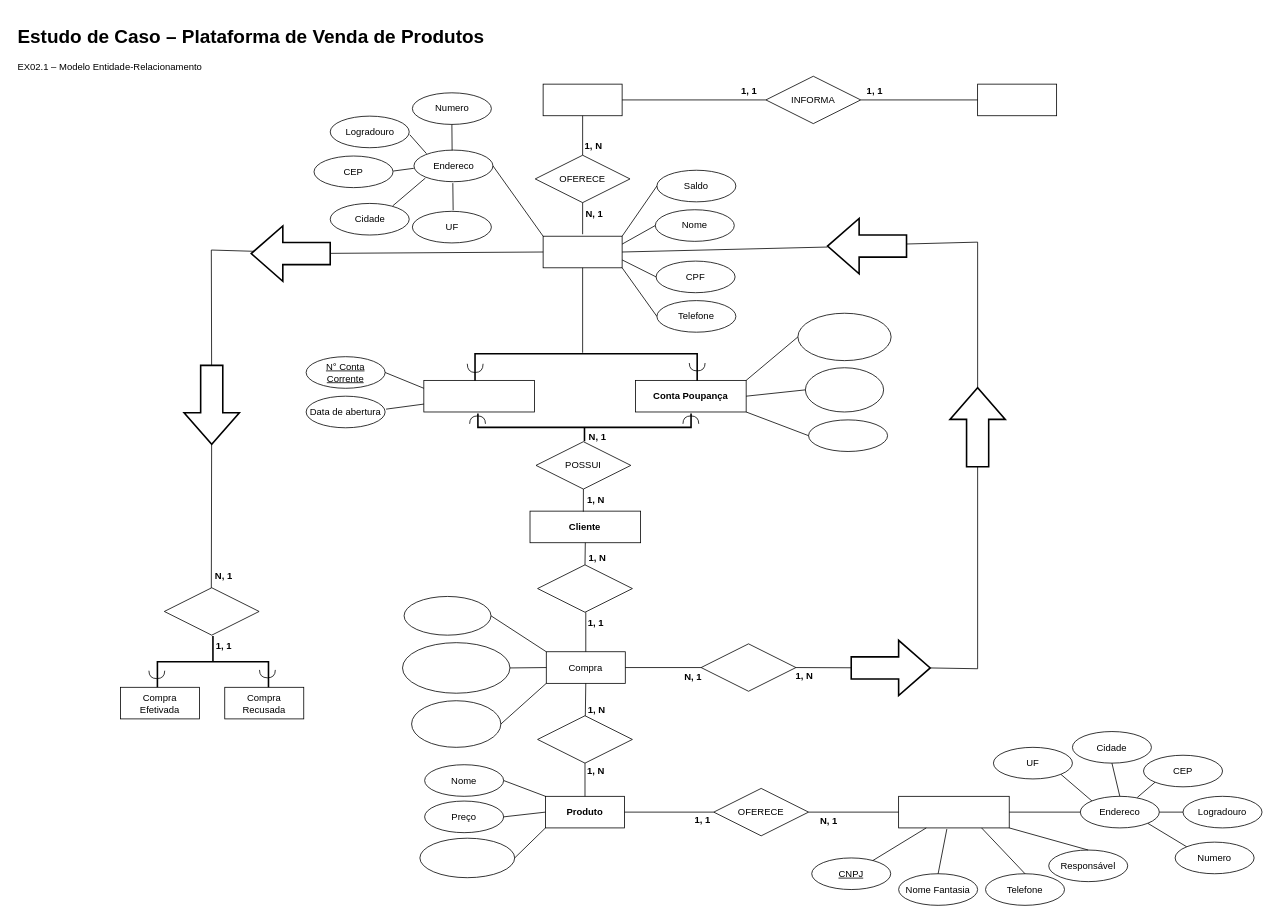
This 1276x919 diagram has some shape labels left out. The shapes that lost their labels are listed below. From the top down, each one's box as (x1, y1, x2, y2) in pixels, then its label:
(542, 83, 622, 116): Instituição Financeira
(977, 83, 1057, 116): Rede Social
(542, 235, 622, 268): Conta
(797, 312, 891, 361): N° Conta Poupança
(423, 380, 534, 412): Conta Corrente
(805, 367, 884, 412): Rendimento/mês
(808, 419, 888, 451): Data de aniversário
(537, 564, 632, 612): Realiza
(164, 587, 259, 635): Retorna Saldo
(403, 596, 491, 635): Data da compra
(402, 642, 510, 693): Quantidade de ítens comprados
(700, 643, 796, 691): Consulta Saldo
(411, 700, 501, 747): Valor total da compra
(537, 715, 632, 763): Discrimina
(898, 796, 1009, 828): Parceiro
(419, 837, 515, 878): Quantidade em estoque
